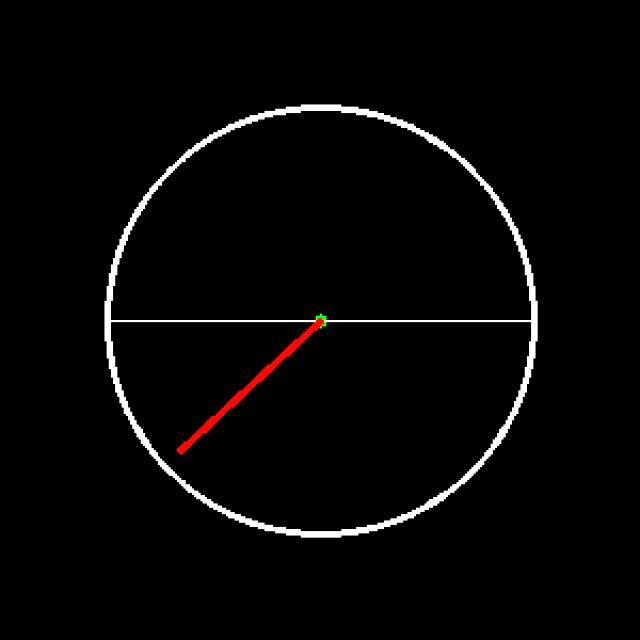Needle_Tip: (170, 424, 201, 470)
Needle_base: (285, 299, 358, 361)
